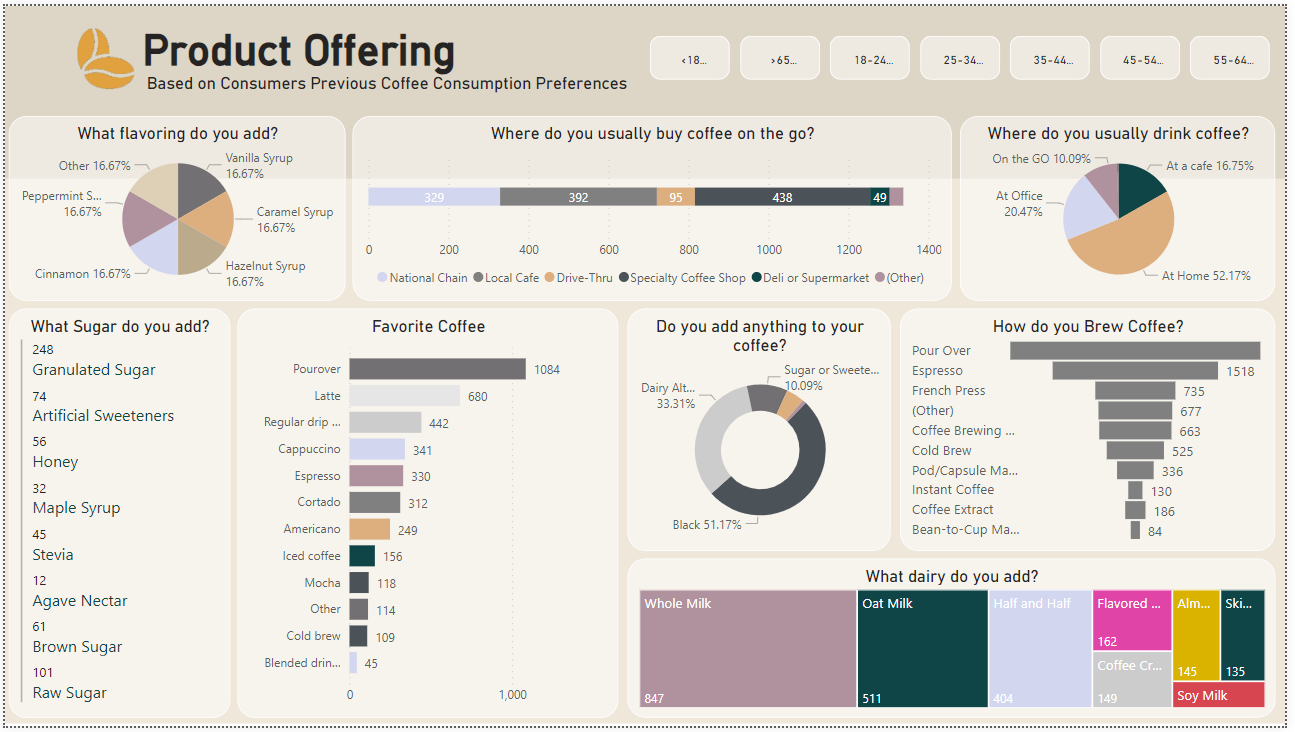

The page's visual inventory and layout, read from the dashboard file:
{"tool":"powerbi","page":{"name":"Product Offering","canvas":[1280,720],"ordinal":2},"visuals":[{"type":"textbox","box":[132.9,13.3,514.9,79.7],"z":0},{"type":"image","box":[59.1,17.7,83.7,70.9],"z":1000},{"type":"donutChart","title":"Do you add anything to your coffee?","fields":{"Y":["Sum(Processed.Black)","Sum(Processed.Dairy Alternative)","Sum(Processed.Sugar or Sweetener)","Sum(Processed.Flavor Syrup)","Sum(Processed.Add to Coffee)"]},"box":[622.3,302.3,263.5,242.5],"z":2000},{"type":"barChart","title":"Favorite Coffee","fields":{"Category":["Processed.Favorite Coffee"],"Y":["CountNonNull(Processed.Favorite Coffee)"]},"box":[232.5,302.3,380.9,409.7],"z":3000},{"type":"barChart","title":"Where do you usually buy coffee on the go?","fields":{"Y":["Sum(Processed.National Chain)","Sum(Processed.Local Cafe)","Sum(Processed.Drive-Thru)","Sum(Processed.Specialty Coffee Shop)","Sum(Processed.Deli or Supermarket)","Sum(Processed.On the Go (Other))"]},"box":[347.7,109.6,599,184.9],"z":4000},{"type":"multiRowCard","title":"What Sugar do you add?","fields":{"Values":["Sum(Processed.Granulated Sugar)","Sum(Processed.Artificial Sweeteners)","Sum(Processed.Honey)","Sum(Processed.Maple Syrup)","Sum(Processed.Stevia)","Sum(Processed.Agave Nectar)","Sum(Processed.Brown Sugar)","Sum(Processed.Raw Sugar)"]},"box":[3.3,302.3,221.5,409.7],"z":5000},{"type":"treemap","title":"What dairy do you add?","fields":{"Values":["Sum(Processed.Whole Milk)","Sum(Processed.Skim Milk)","Sum(Processed.Half and Half)","Sum(Processed.Coffee Creamer)","Sum(Processed.Flavored Coffee Creamer)","Sum(Processed.Oat Milk)","Sum(Processed.Almond Milk)","Sum(Processed.Soy Milk)"]},"box":[622.3,552.5,647.8,159.4],"z":6000},{"type":"pieChart","title":"Where do you usually drink coffee?","fields":{"Y":["CountNonNull(Processed.At a cafe)","CountNonNull(Processed.At Home)","CountNonNull(Processed.At Office)","CountNonNull(Processed.On the GO)","Sum(Processed.Where do you Drink (Others))"]},"box":[954.5,109.6,315.6,184.9],"z":7000},{"type":"funnel","title":"How do you Brew Coffee?","fields":{"Y":["CountNonNull(Processed.Pour Over)","CountNonNull(Processed.Espresso)","CountNonNull(Processed.French Press)","CountNonNull(Processed.Brew Coffee (Other))","CountNonNull(Processed.Coffee Brewing Machine)","CountNonNull(Processed.Cold Brew)","CountNonNull(Processed.Pod/Capsule Machine)","CountNonNull(Processed.Instant Coffee)","CountNonNull(Processed.Coffee Extract )","CountNonNull(Processed.Bean-to-Cup Machine)"]},"box":[894.7,302.3,375.4,242.5],"z":8000},{"type":"pieChart","title":"What flavoring do you add?","fields":{"Y":["CountNonNull(Processed.Vanilla Syrup)","CountNonNull(Processed.Caramel Syrup)","CountNonNull(Processed.Hazelnut Syrup)","CountNonNull(Processed.Cinnamon)","CountNonNull(Processed.Peppermint Syrup)","CountNonNull(Processed.Flavorings (Other))"]},"box":[3.3,109.6,336.6,184.9],"z":9000},{"type":"advancedSlicerVisual","title":"Coffee Consumption by Work Location","fields":{"Values":["Processed.Age"]},"box":[640,25.6,630.2,54.2],"z":10000}]}

Visuals, with their boxes in screenshot pixels (x1, y1, x2, y2), scaled from the page's 1280x720 canvas onto the 1295x732 screenshot:
textbox: region(134, 14, 655, 95)
image: region(60, 18, 144, 90)
"Do you add anything to your coffee?" donutChart: region(630, 307, 896, 554)
"Favorite Coffee" barChart: region(235, 307, 621, 724)
"Where do you usually buy coffee on the go?" barChart: region(352, 111, 958, 299)
"What Sugar do you add?" multiRowCard: region(3, 307, 227, 724)
"What dairy do you add?" treemap: region(630, 562, 1285, 724)
"Where do you usually drink coffee?" pieChart: region(966, 111, 1285, 299)
"How do you Brew Coffee?" funnel: region(905, 307, 1285, 554)
"What flavoring do you add?" pieChart: region(3, 111, 344, 299)
"Coffee Consumption by Work Location" advancedSlicerVisual: region(648, 26, 1285, 81)
